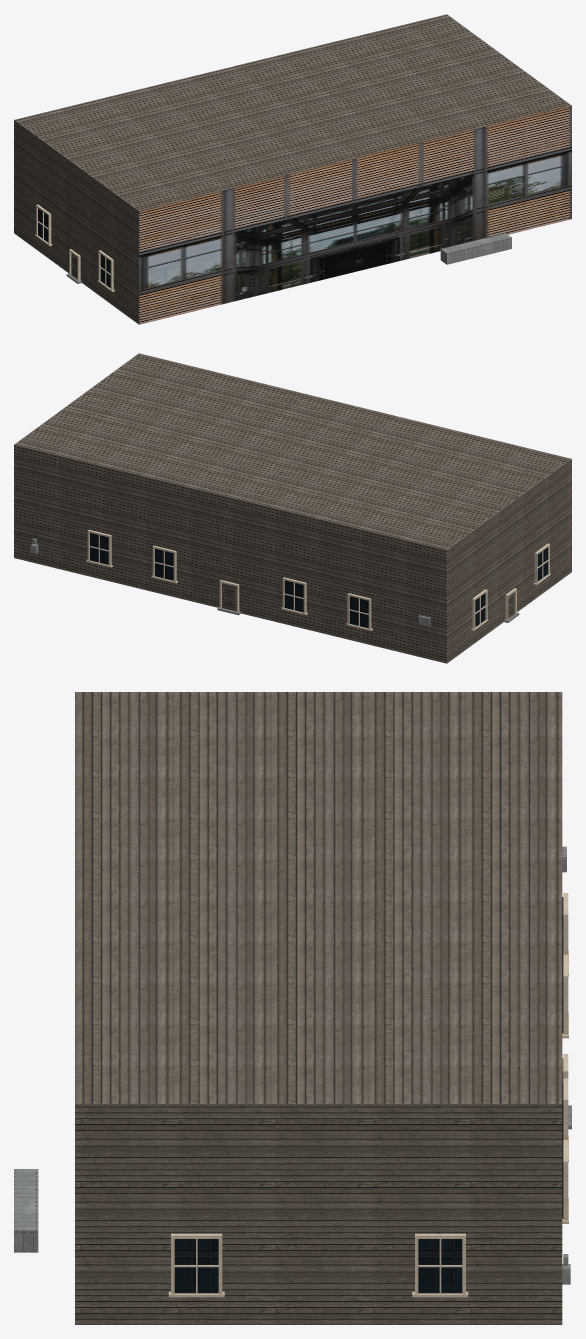
File: greenway-station_lod0.gltf
The picture shows the model from 3 angles, top to bottom: view 1: azimuth 30°, elevation 25°; view 2: azimuth 150°, elevation 25°; view 3: azimuth 270°, elevation 25°; orthographic projection. The views are drawn at different scales.
Parts seen in each view (by area): view 1: greenway-station_main, greenway-station_front, greenway-station__bike_racks, greenway-station_fen_04-limestone_0, greenway-station_fen_07-glass-curtain-blue_5_t; view 2: greenway-station_main, greenway-station_fen_04-limestone_0, greenway-station_fen_07-glass-curtain-blue_5_t; view 3: greenway-station_main, greenway-station_fen_07-glass-curtain-blue_5_t, greenway-station_fen_04-limestone_0, greenway-station__bike_racks.
Part boxes in pixels (left/top/right/bottom): greenway-station_main: left=14, top=14, right=571, bottom=324; greenway-station_front: left=139, top=106, right=571, bottom=324; greenway-station__bike_racks: left=440, top=233, right=511, bottom=264; greenway-station_fen_04-limestone_0: left=35, top=204, right=114, bottom=291; greenway-station_fen_07-glass-curtain-blue_5_t: left=38, top=208, right=110, bottom=287; greenway-station_main: left=14, top=353, right=571, bottom=663; greenway-station_fen_04-limestone_0: left=86, top=529, right=550, bottom=630; greenway-station_fen_07-glass-curtain-blue_5_t: left=90, top=533, right=547, bottom=628; greenway-station_main: left=75, top=692, right=562, bottom=1324; greenway-station_fen_07-glass-curtain-blue_5_t: left=174, top=897, right=563, bottom=1293; greenway-station_fen_04-limestone_0: left=168, top=893, right=568, bottom=1297; greenway-station__bike_racks: left=14, top=1169, right=38, bottom=1252.
Bounding box in the file's own units: 40.67 × 10.02 × 22.9.
